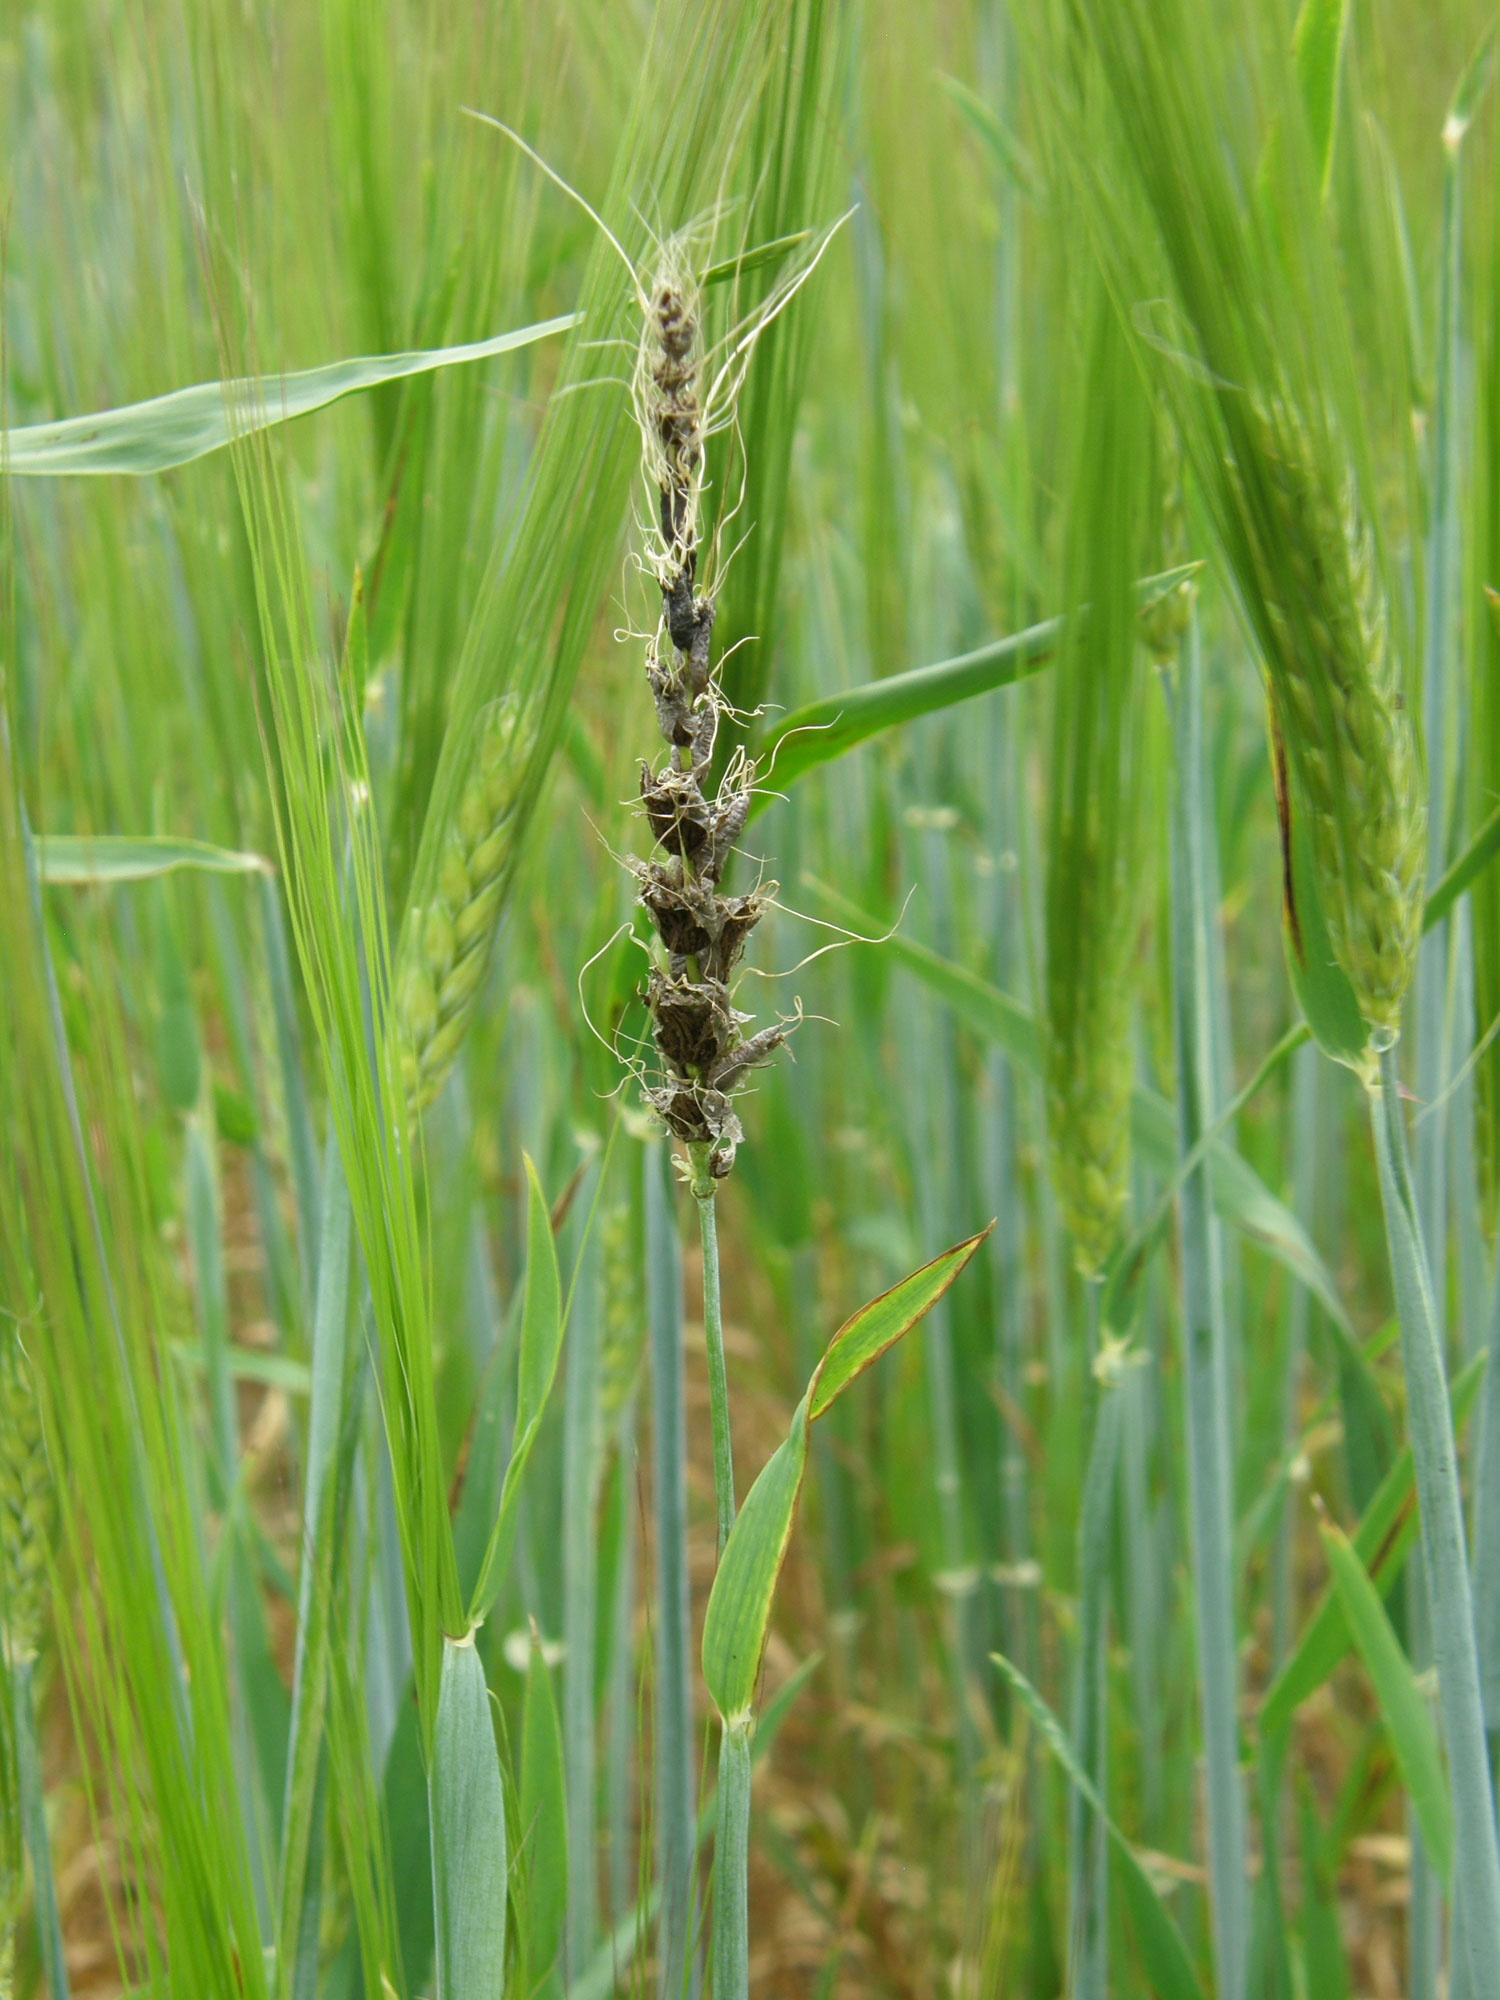Wheat Loose Smut: (574, 217, 807, 1150)
